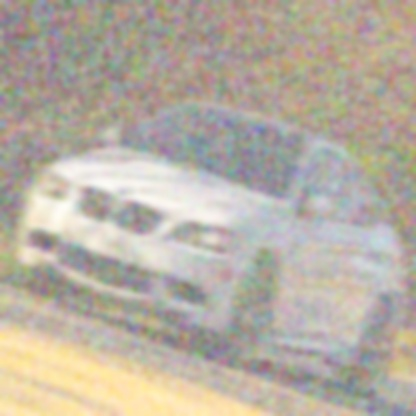Vehicle: (18, 99, 406, 403)
